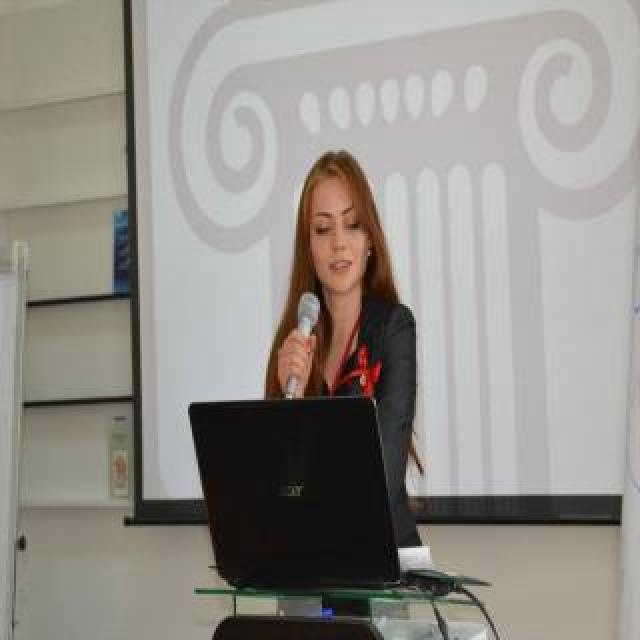laptop_computer: (179, 385, 459, 620)
